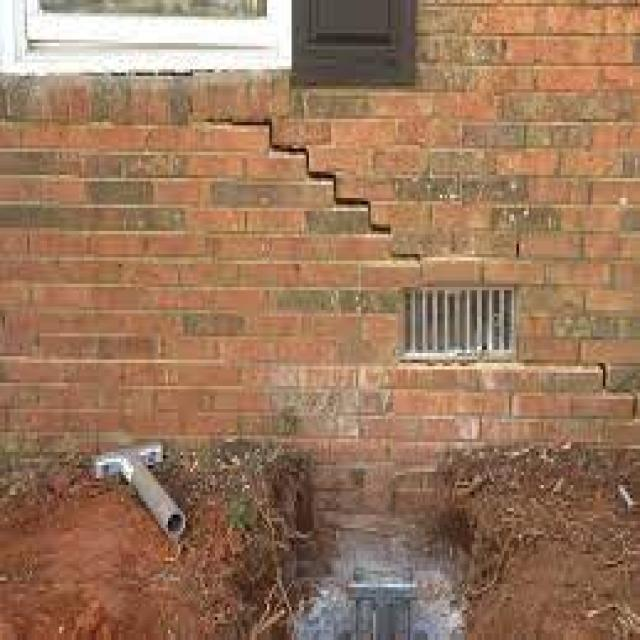Crack: (205, 112, 418, 261), (580, 356, 638, 409)
